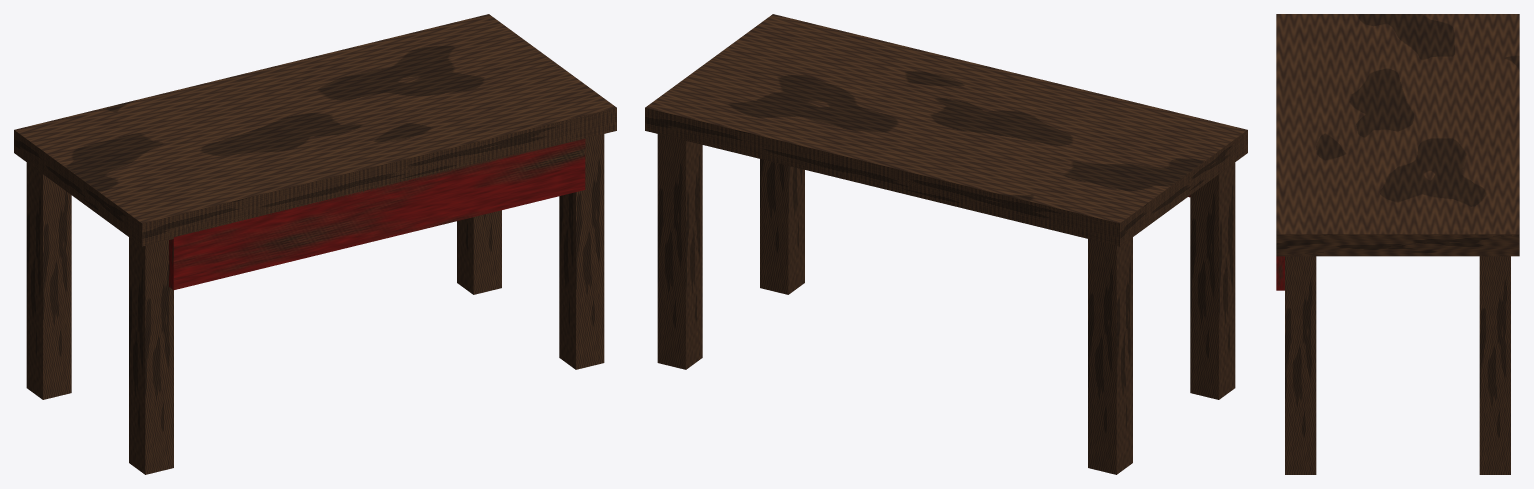
Rendered from desk_study.glb.
3 views of the same model, side by side, from view 1: azimuth 30°, elevation 25°; view 2: azimuth 150°, elevation 25°; view 3: azimuth 270°, elevation 25° (orthographic). The views are drawn at different scales.
Visible parts, largest first — view 1: Top, DrawerF, Leg_-68_28, Leg_-68_-28, Leg_68_28, Leg_68_-28; view 2: Top, Leg_68_-28, Leg_-68_-28, Leg_-68_28, Leg_68_28; view 3: Top, Leg_68_-28, Leg_68_28, DrawerF.
Boxes of the visible parts, x1=… form: Top: x1=14, y1=14, x2=616, y2=246; DrawerF: x1=169, y1=138, x2=585, y2=290; Leg_-68_28: x1=129, y1=237, x2=173, y2=474; Leg_-68_-28: x1=26, y1=162, x2=71, y2=399; Leg_68_28: x1=559, y1=134, x2=604, y2=369; Leg_68_-28: x1=457, y1=210, x2=501, y2=294; Top: x1=645, y1=14, x2=1247, y2=246; Leg_68_-28: x1=657, y1=134, x2=702, y2=369; Leg_-68_-28: x1=1088, y1=237, x2=1132, y2=474; Leg_-68_28: x1=1190, y1=162, x2=1235, y2=399; Leg_68_28: x1=760, y1=159, x2=804, y2=294; Top: x1=1276, y1=14, x2=1519, y2=256; Leg_68_-28: x1=1479, y1=256, x2=1510, y2=474; Leg_68_28: x1=1285, y1=256, x2=1316, y2=474; DrawerF: x1=1276, y1=256, x2=1284, y2=290.
Size of what is drawn, in the model's own units: 1.5 by 0.775 by 0.7.
2 materials, 2 textured.
